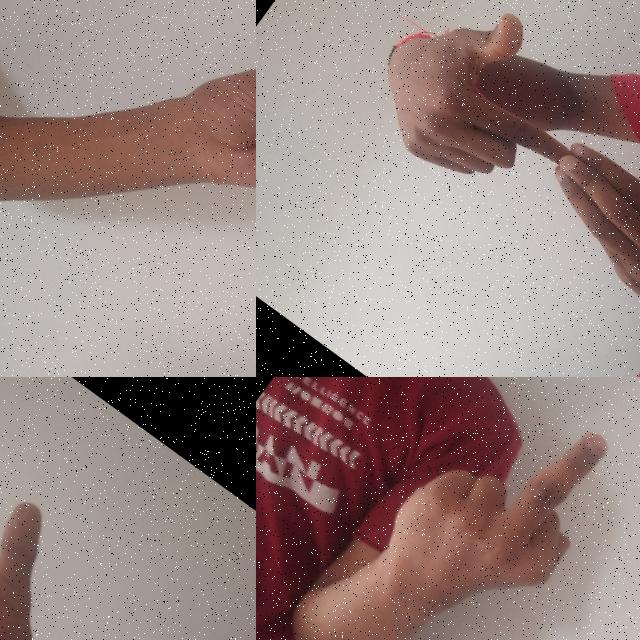Corna: (96, 0, 256, 326)
Five Fathers: (330, 0, 640, 373)
Middle Finger: (300, 377, 640, 640)
Thumbs Up: (0, 442, 128, 640)
